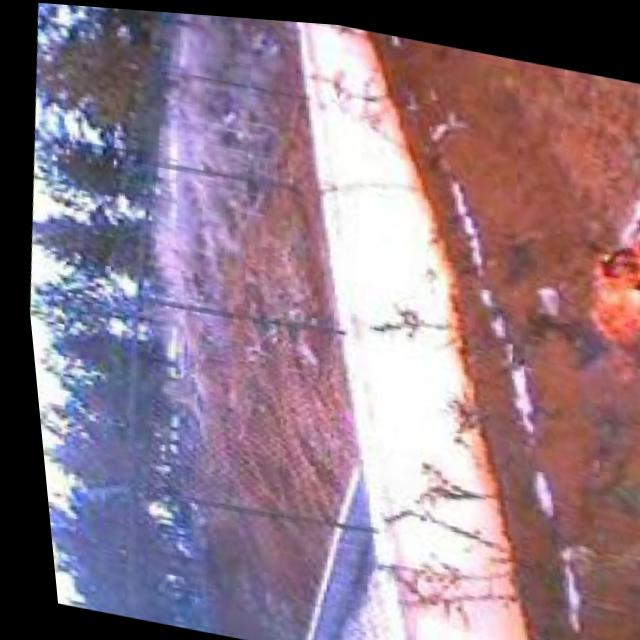Fire: (561, 190, 640, 377)
